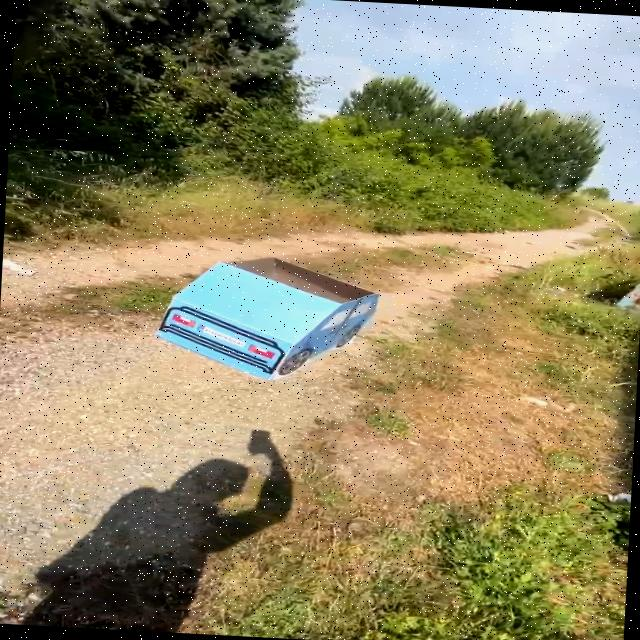blue_car: (138, 235, 395, 398)
